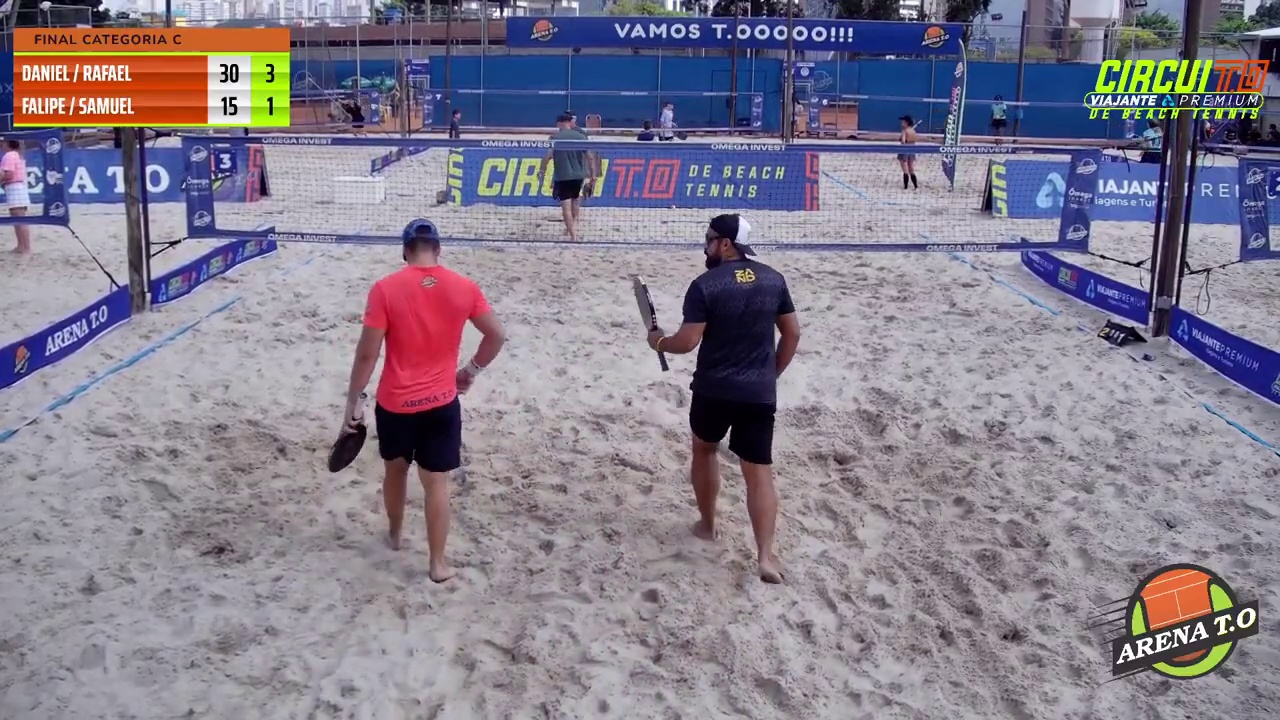court_line: (647, 0, 804, 471)
